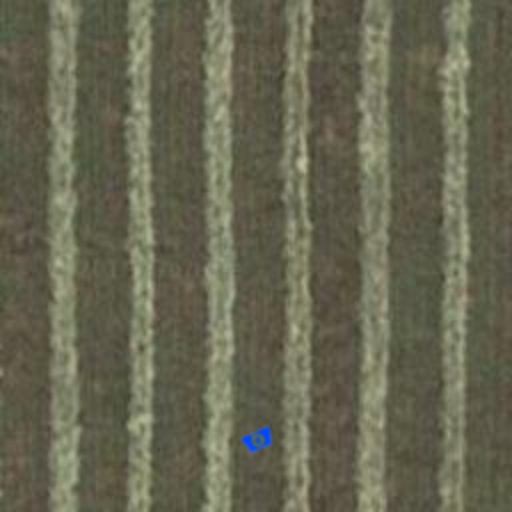trapezoid: (236, 418, 280, 462)
